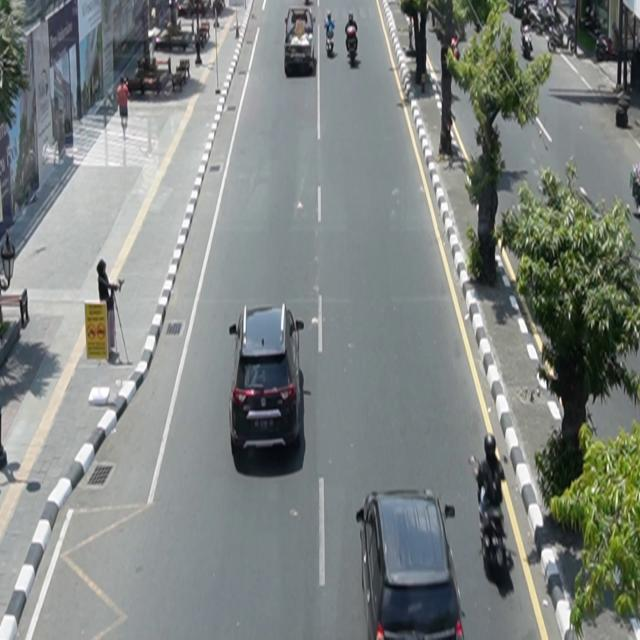car: (357, 488, 467, 640), (229, 303, 305, 456), (285, 8, 316, 78)
